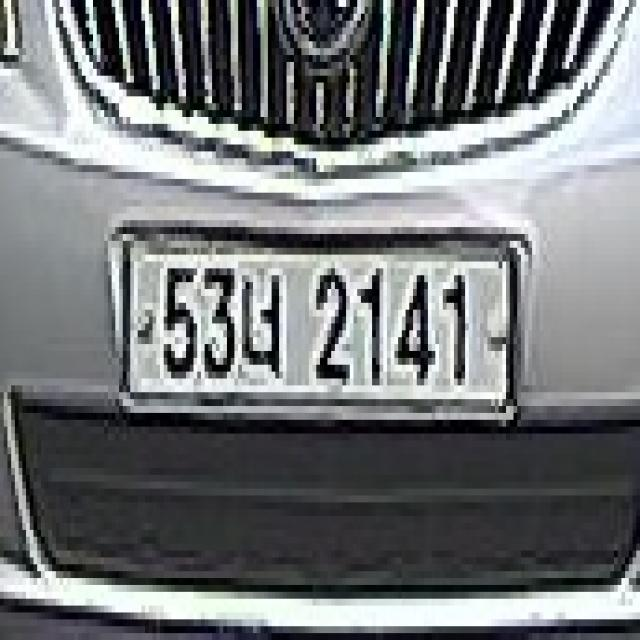1: (439, 248, 480, 392), (346, 262, 387, 378)
2: (313, 262, 357, 399)
3: (201, 268, 238, 392)
4: (387, 262, 443, 399)
5: (152, 248, 201, 378)
license_plate: (115, 214, 521, 434)
neo: (238, 254, 287, 378)
